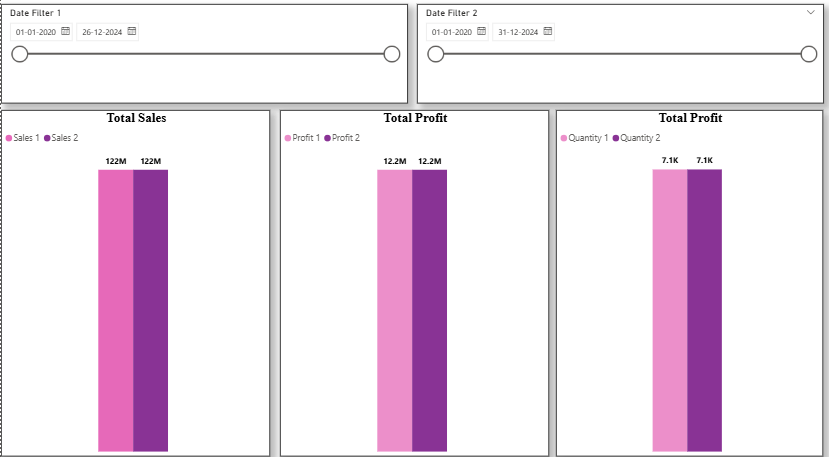

The dashboard page shown, as its layout file describes it:
{"tool":"powerbi","page":{"name":"Requirement 4","canvas":[1280,720],"ordinal":2},"visuals":[{"type":"slicer","fields":{"Values":["Date table 1.Date"]},"box":[0,8.6,625.7,152.9],"z":0},{"type":"slicer","fields":{"Values":["Date table 2.Date"]},"box":[640,8.6,625.7,152.9],"z":1000},{"type":"clusteredColumnChart","title":"Total Sales","fields":{"Y":["Sum(Fact Table.Net Sales)","Date table 1.Sum of Net sales"]},"box":[0,172.9,414.3,532.9],"z":2000},{"type":"clusteredColumnChart","title":"Total Profit","fields":{"Y":["Sum(Fact Table.Profit)","Measure.Total Profit"]},"box":[428.6,172.9,414.3,532.9],"z":3000},{"type":"clusteredColumnChart","title":"Total Profit","fields":{"Y":["Measure.Quantity Sold","Sum(Fact Table.Units Sold)"]},"box":[854.3,172.9,411.4,532.9],"z":4000}]}

Visuals, with their boxes in screenshot pixels (x1, y1, x2, y2), scaled from the page's 1280x720 canvas onto the 829x457 screenshot:
slicer - Date table 1.Date: <region>0, 5, 405, 103</region>
slicer - Date table 2.Date: <region>414, 5, 820, 103</region>
"Total Sales" clusteredColumnChart: <region>0, 110, 268, 448</region>
"Total Profit" clusteredColumnChart: <region>278, 110, 546, 448</region>
"Total Profit" clusteredColumnChart: <region>553, 110, 820, 448</region>
